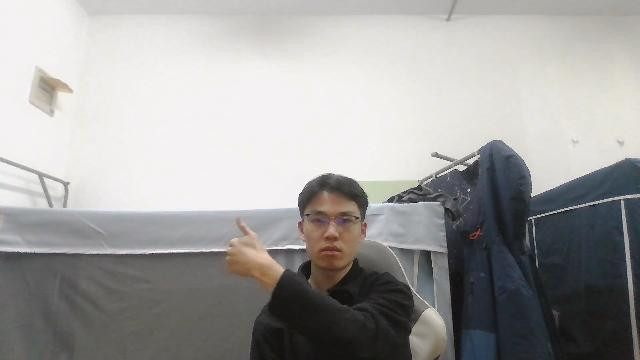good: (223, 214, 281, 289)
